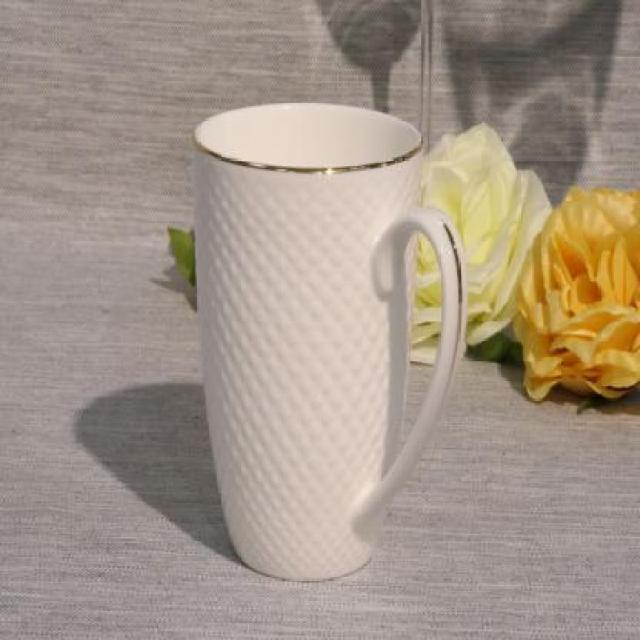cup: (188, 103, 470, 588)
